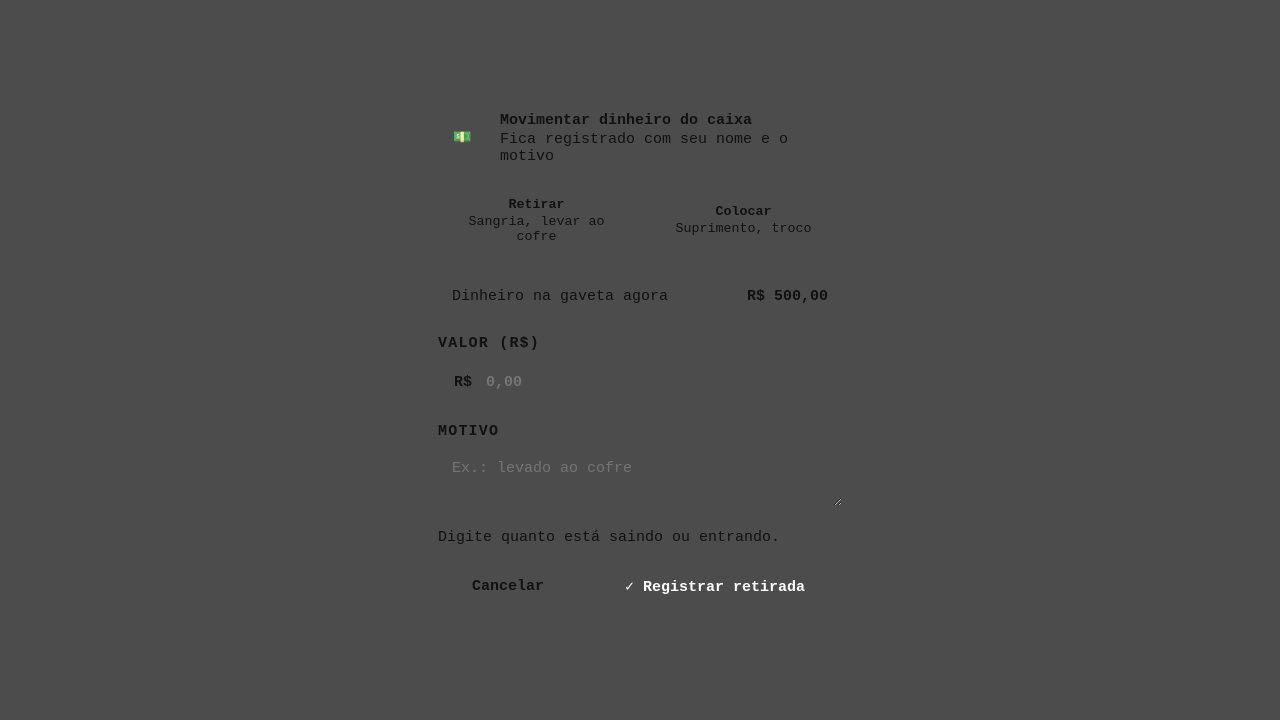
MovimentoCaixaModal, autorização acima do limite › sangria acima do limite pede um gerente antes de liberar o botão
The image size is (1280, 720).
Type "300" into the number field with class "movimento-caixa__input" at (640, 382), box x1=438 y1=360 x2=842 y2=404
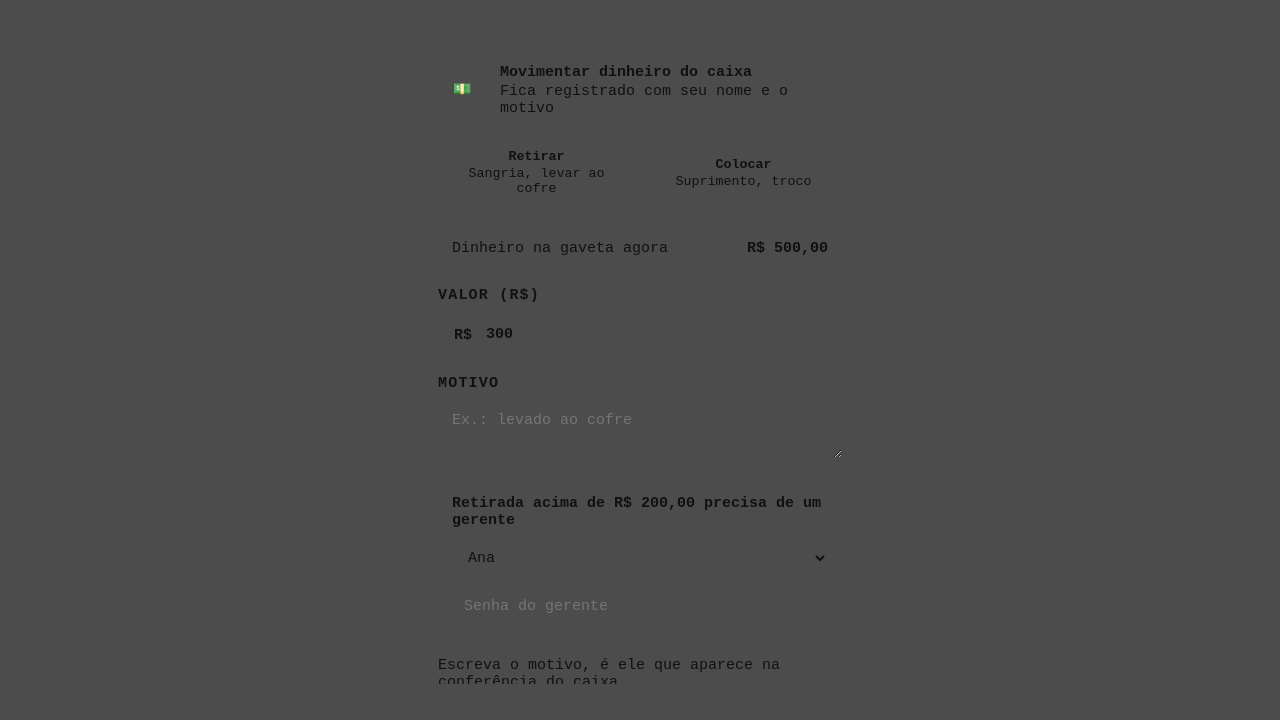
Type "levado ao cofre" into the text box with class "movimento-caixa__textarea" at (640, 429), box x1=438 y1=400 x2=842 y2=458
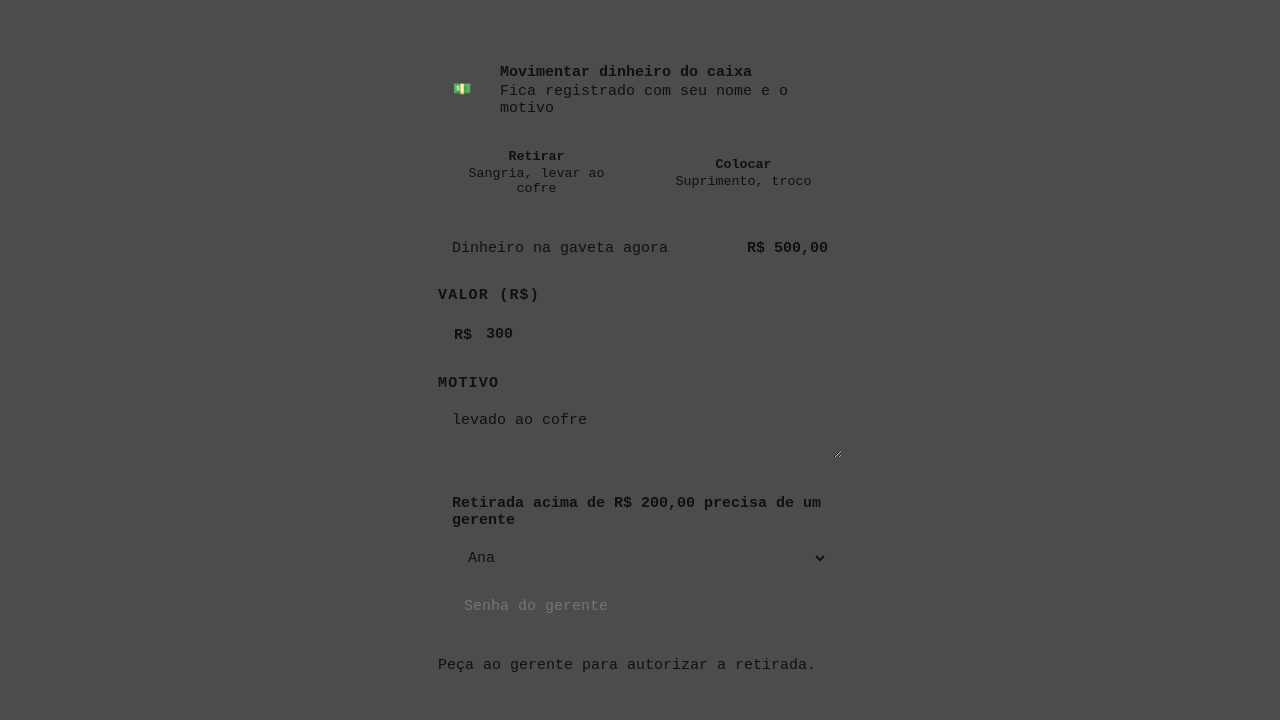
expect the password field with class "movimento-caixa__senha" is shown: met, box x1=452 y1=588 x2=828 y2=625
expect the text with class "movimento-caixa__pendencia" shows "Peça ao gerente": met, box x1=438 y1=657 x2=816 y2=674
